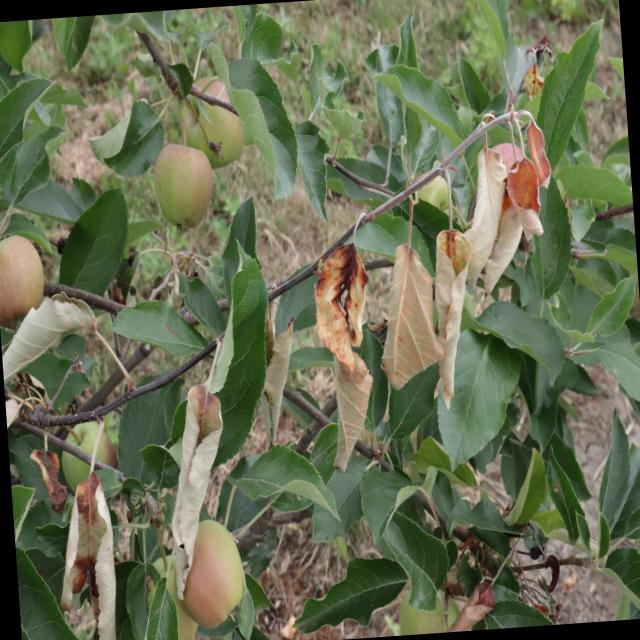-FireBlight-: (389, 221, 474, 407), (458, 141, 560, 288), (319, 238, 384, 466), (147, 443, 211, 596), (250, 285, 309, 446), (65, 471, 121, 640), (4, 286, 103, 366), (179, 358, 226, 479), (446, 580, 501, 632)
